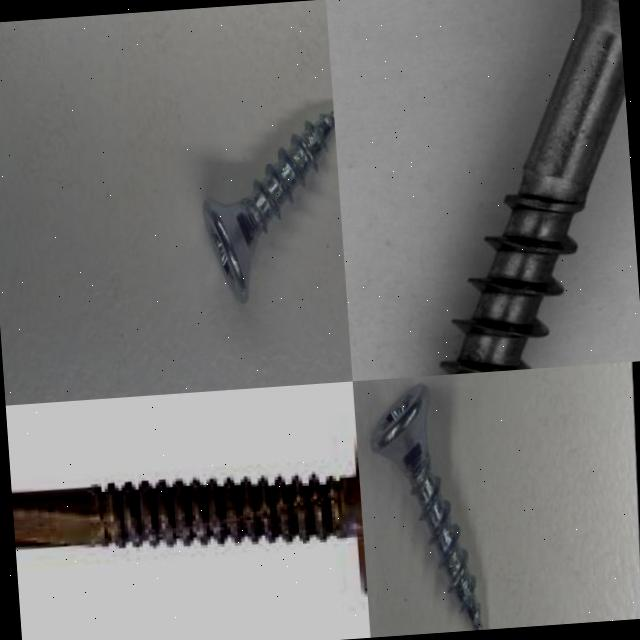Screw: (355, 0, 640, 378), (11, 426, 367, 589), (370, 385, 482, 630), (202, 111, 334, 305)
